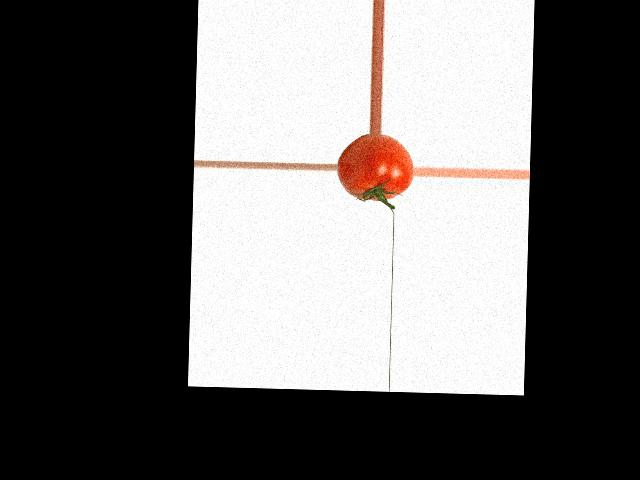tomato: (335, 133, 414, 202)
